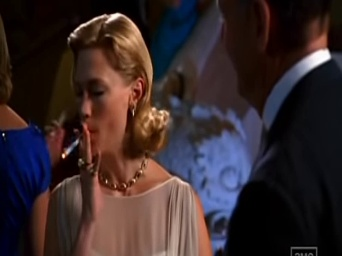smoke: (59, 135, 82, 161)
